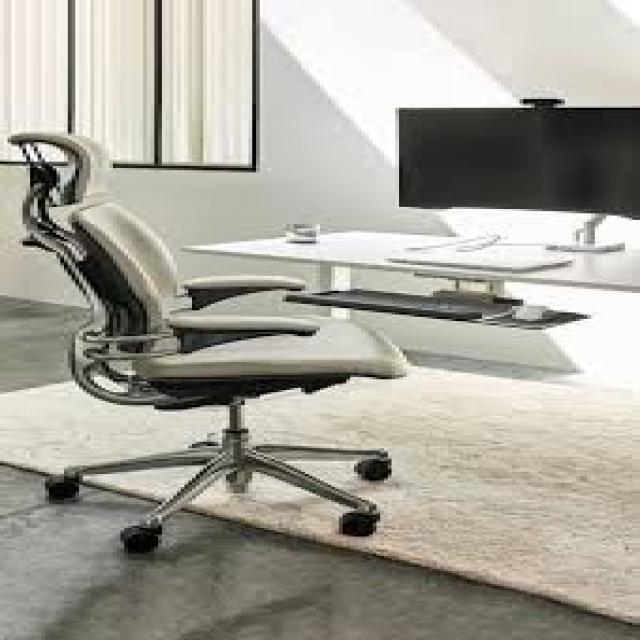chair: (0, 115, 479, 594)
